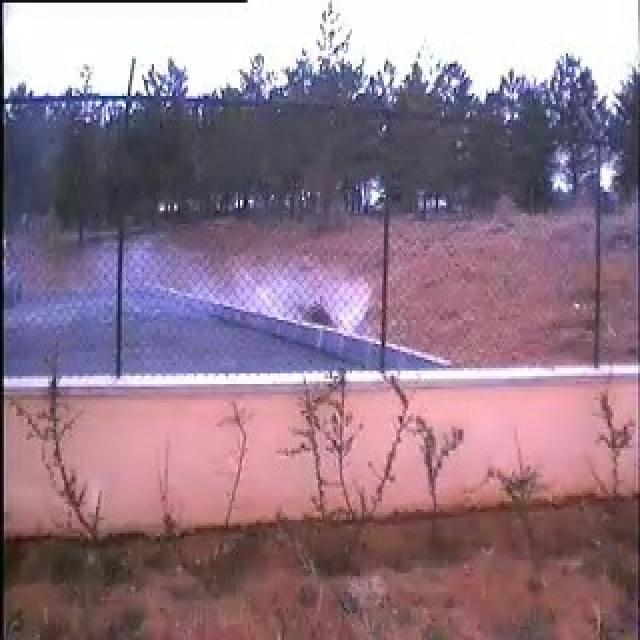smoke: (74, 230, 371, 370)
